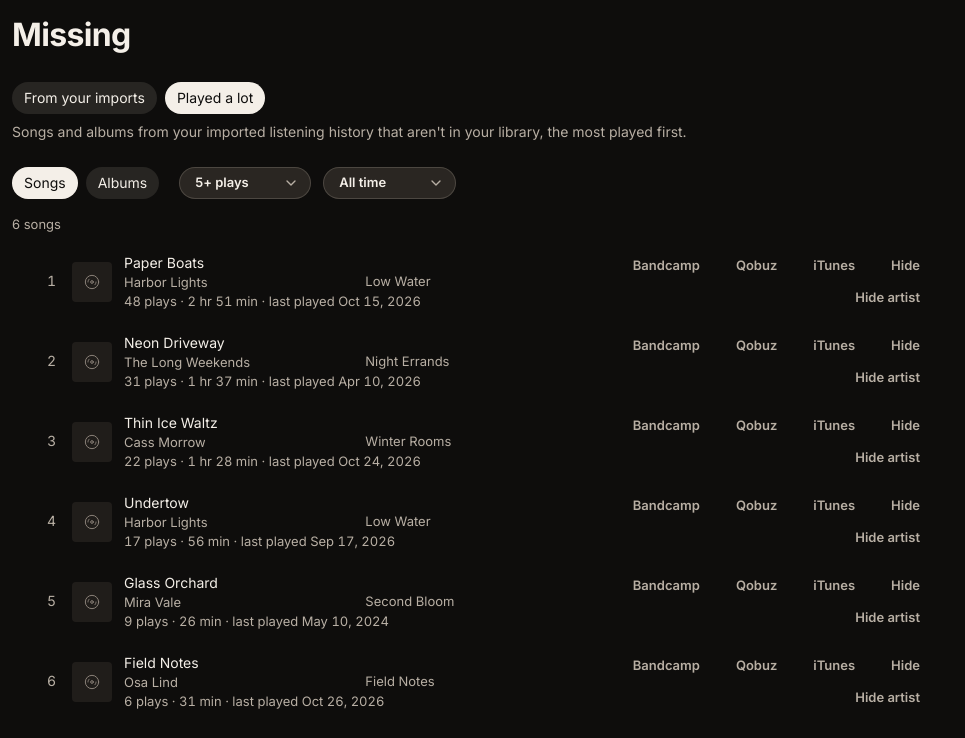
Test: Played a lot › shows albums with how much of each is played and already in the library
Expected: the list item with aria-label "Paper Boats by Harbor Lights" is shown, [12,242,948,322]
Click the radio button labelled "Albums". click: [122, 183]
box: [86,167,159,199]
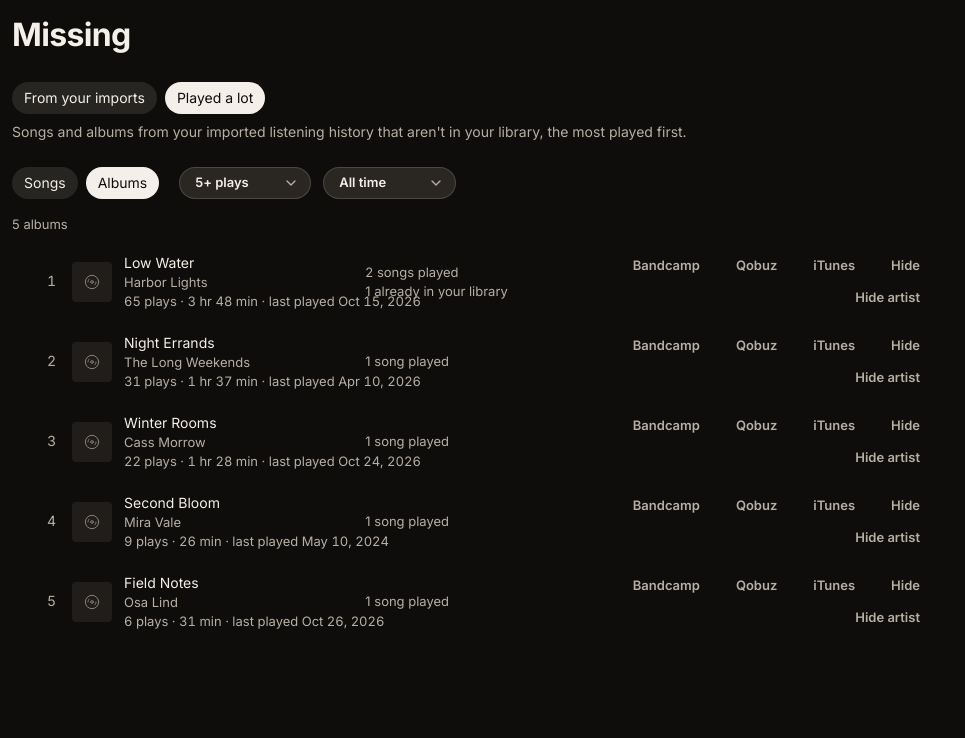
Result: the list item with aria-label "Low Water by Harbor Lights" shows "65 plays" at [12,242,948,322]
Result: the list item with aria-label "Low Water by Harbor Lights" shows "2 songs played" at [12,242,948,322]
Result: the list item with aria-label "Low Water by Harbor Lights" shows "1 already in your library" at [12,242,948,322]
